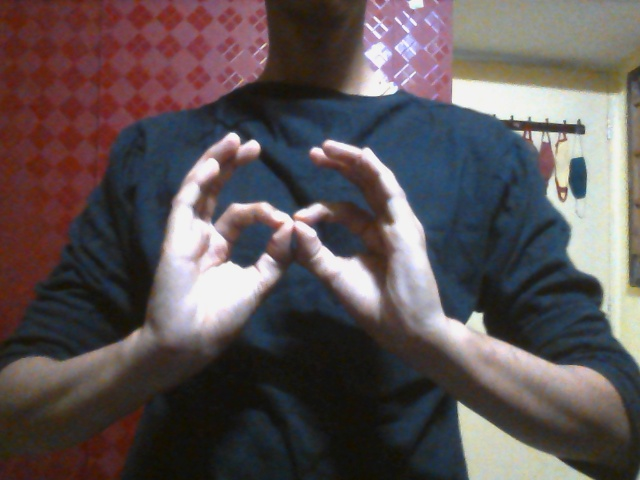B: (142, 132, 446, 397)
